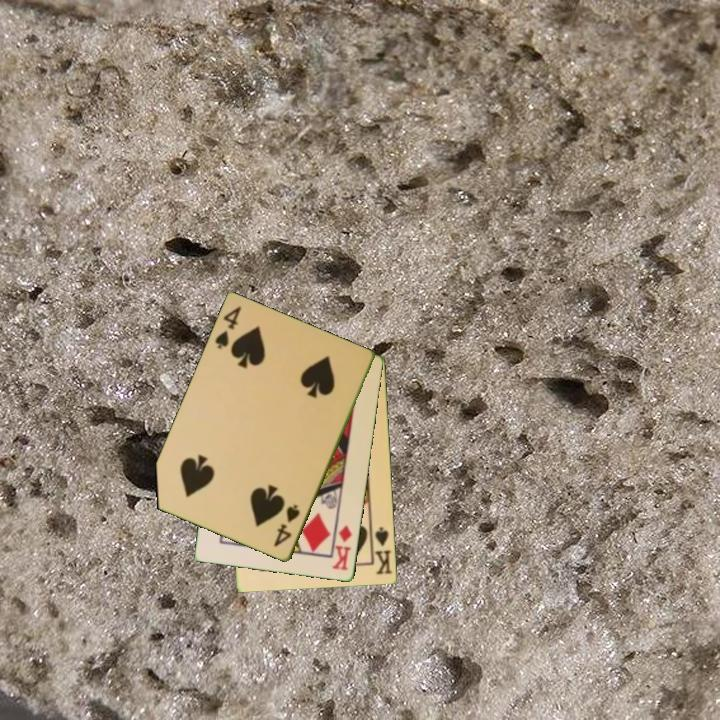4s: (270, 501, 303, 550), (211, 303, 244, 352)
Kd: (329, 522, 355, 574)
Ks: (372, 524, 395, 578)
